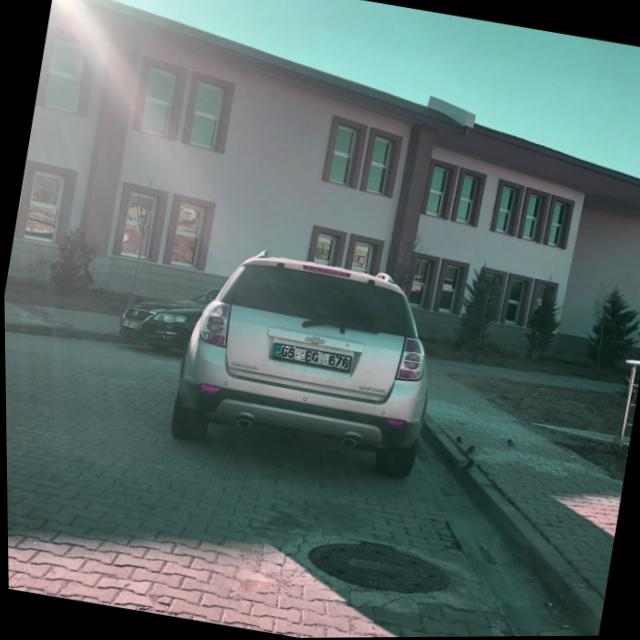license_plate: (272, 343, 350, 371)
